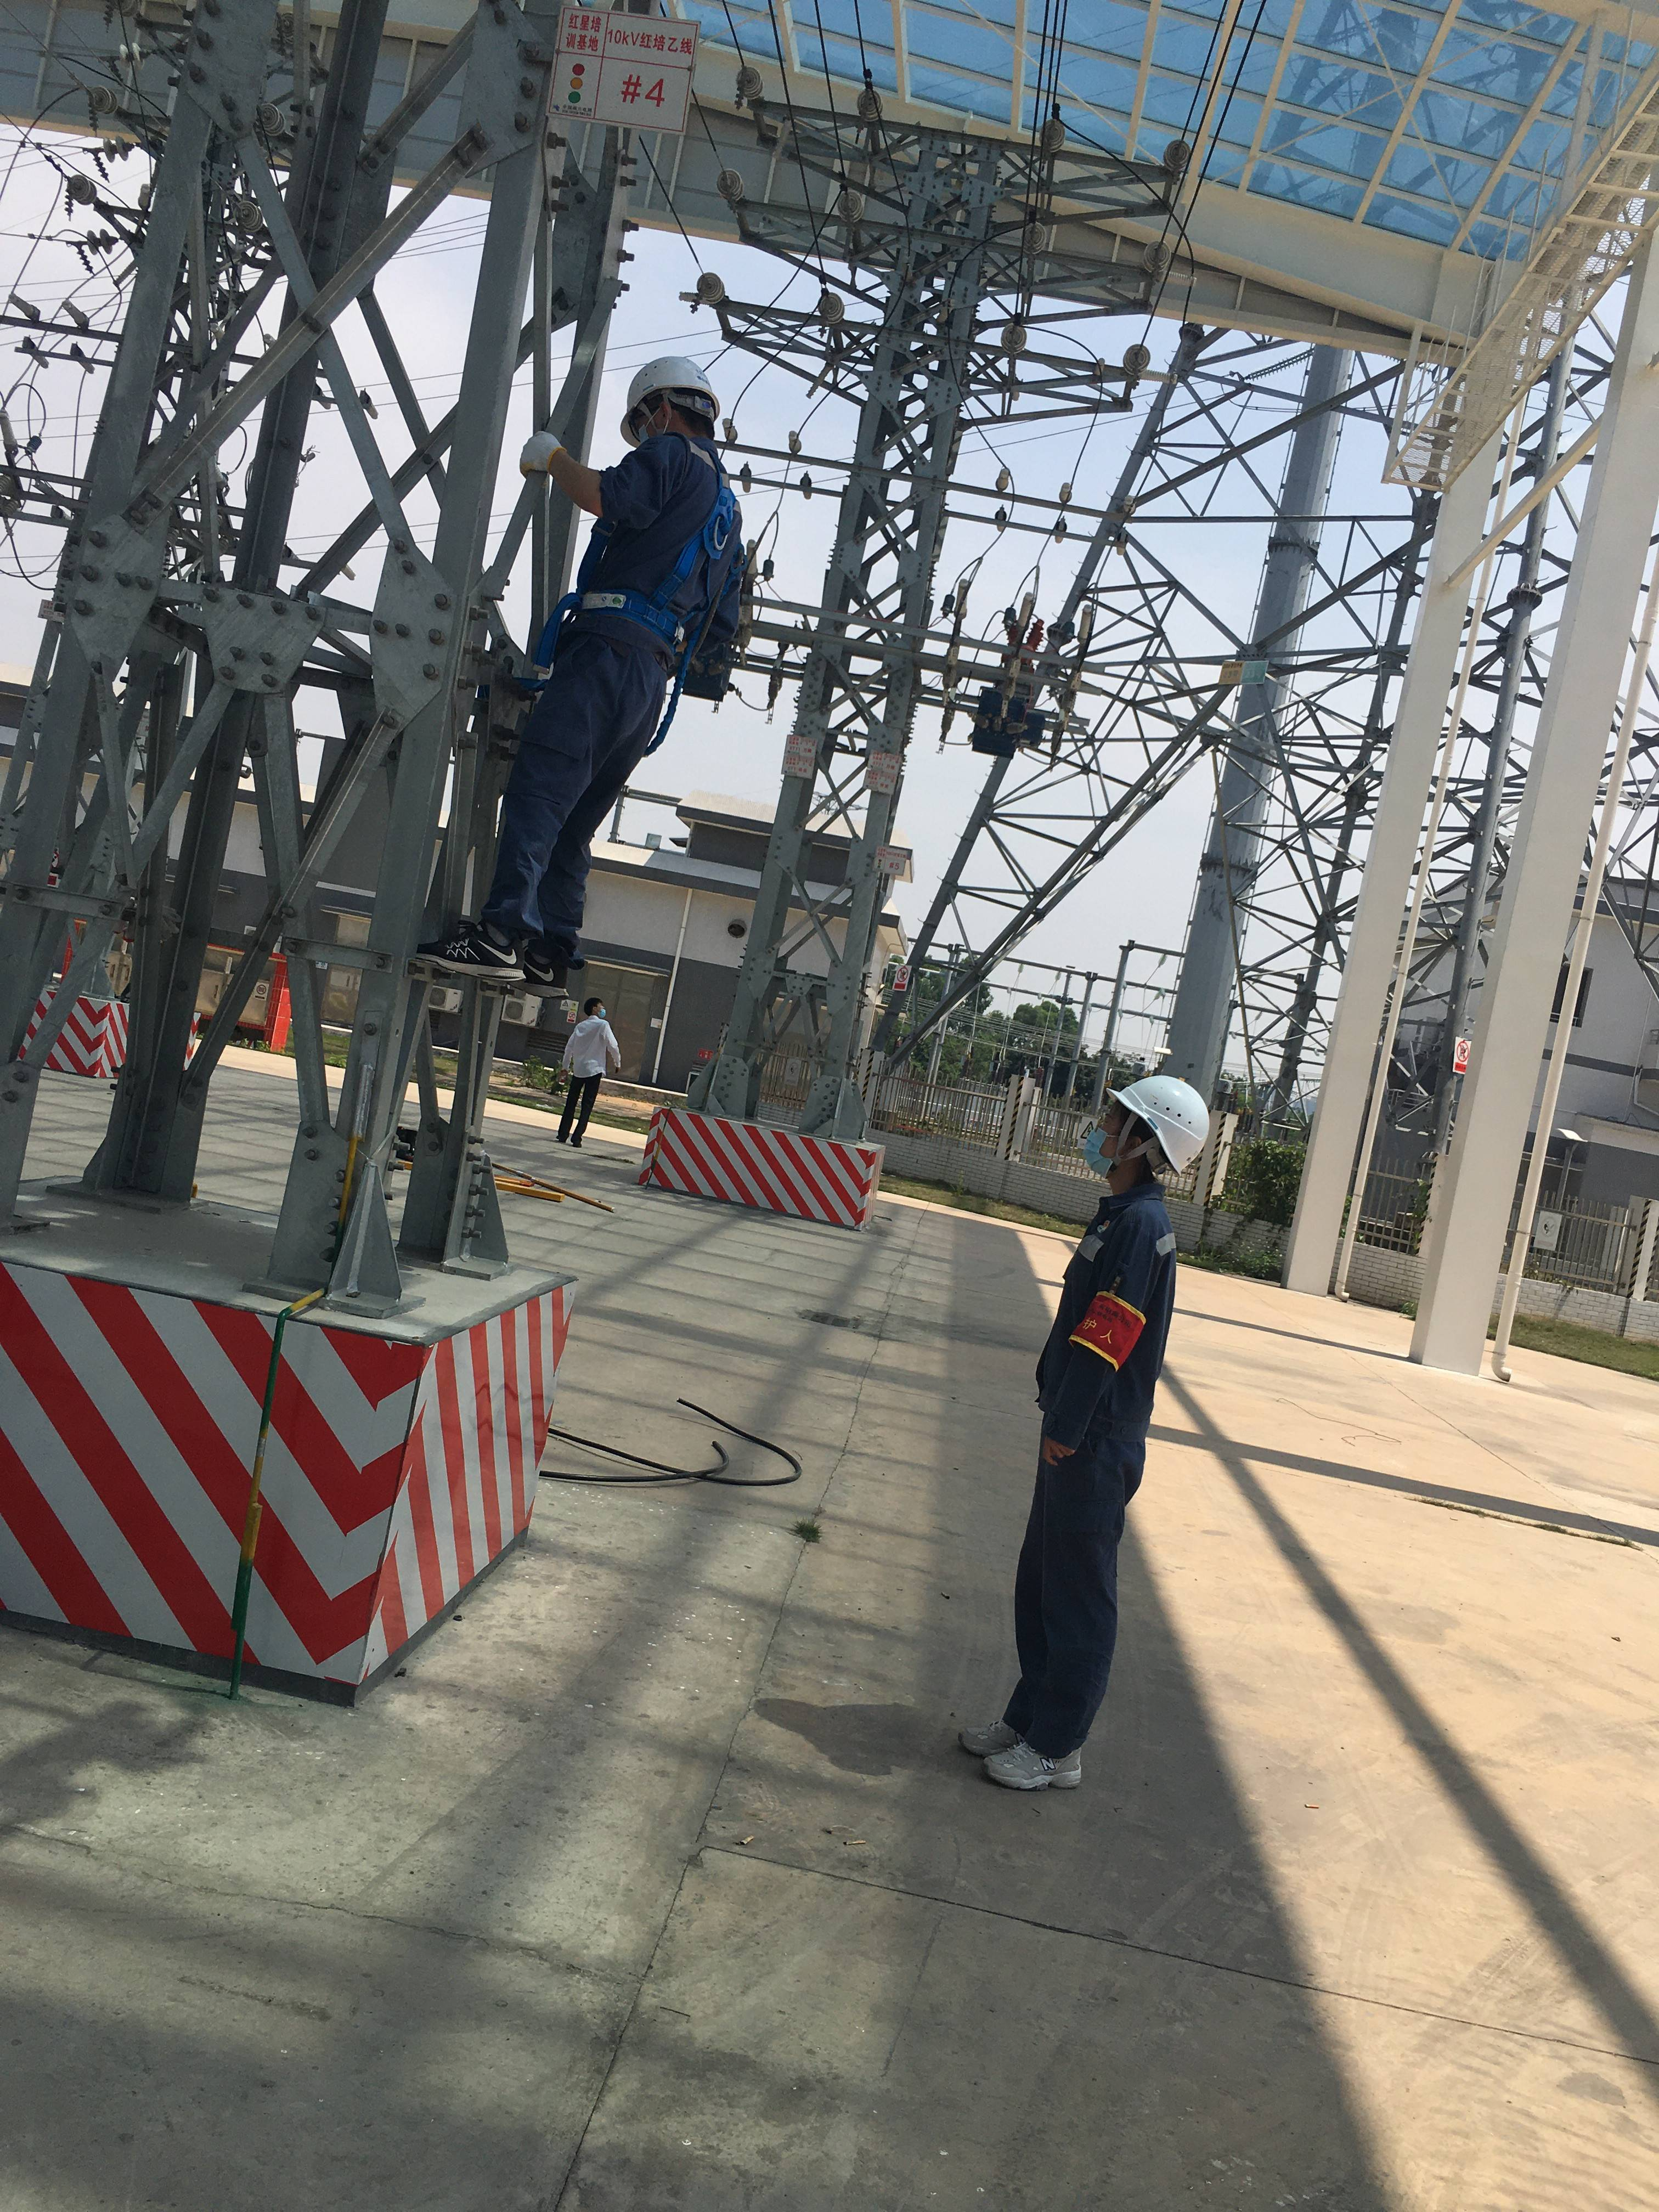downcloth: (559, 1083, 599, 1139)
downsuit: (474, 664, 678, 946), (1012, 1426, 1147, 1763)
upcloth: (561, 1019, 624, 1083)
upsuit: (561, 441, 760, 641), (1033, 1179, 1187, 1409)
wrongtop: (551, 448, 629, 523)
